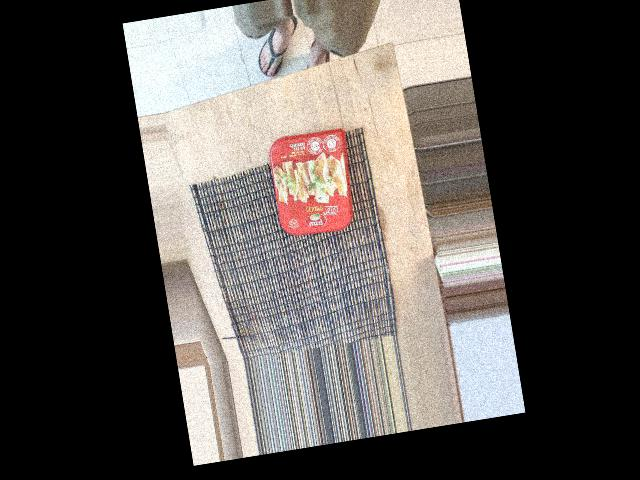cheese: (199, 168, 340, 277)
